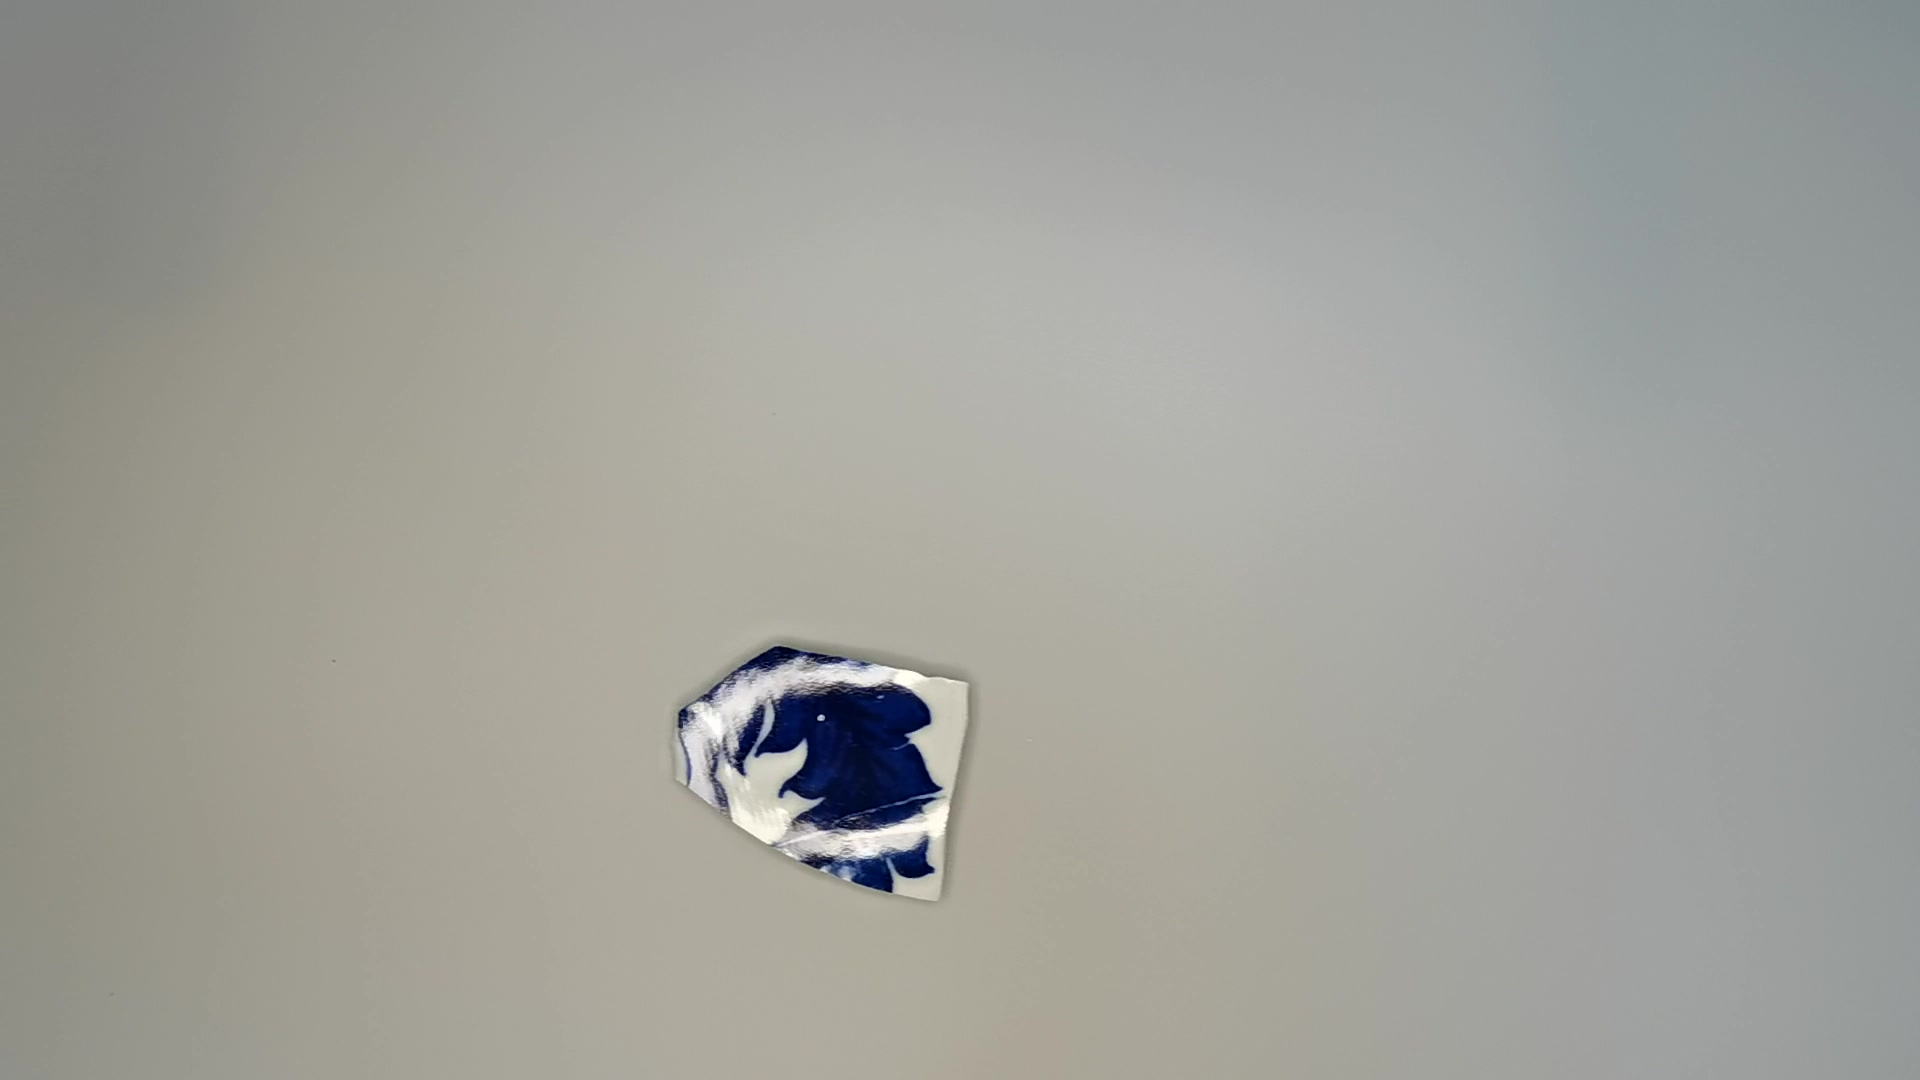ceramic: (665, 649, 989, 905)
